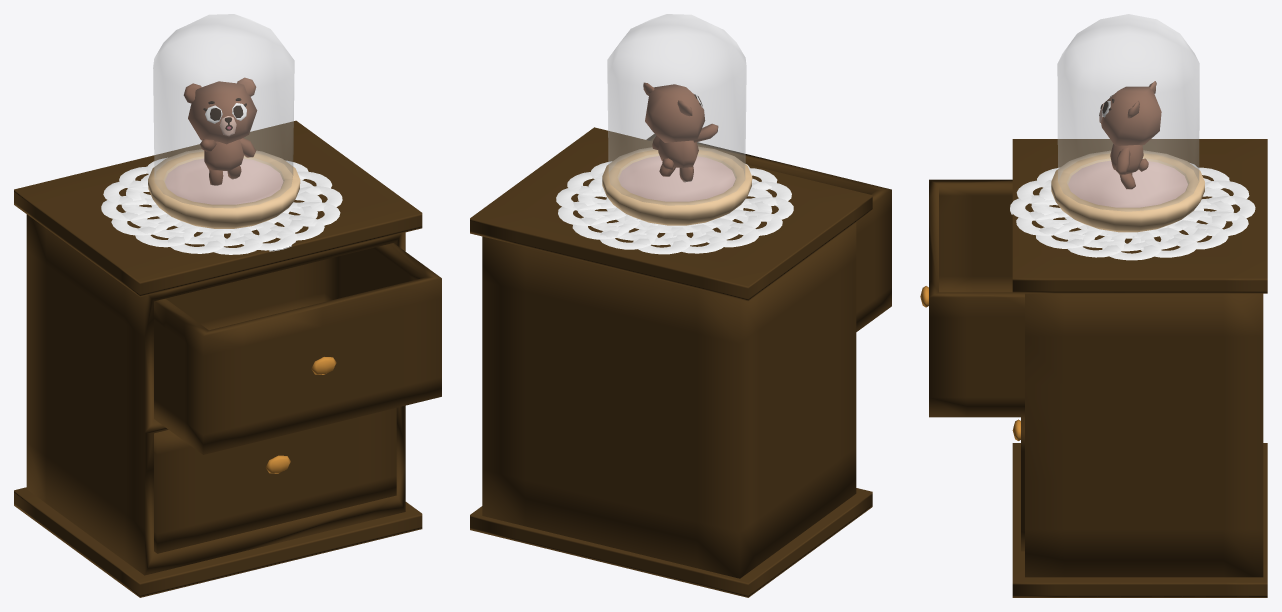
Rendered from drawer.glb.
The picture shows the model from 3 angles, left to right: view 1: azimuth 30°, elevation 25°; view 2: azimuth 150°, elevation 25°; view 3: azimuth 270°, elevation 25°; orthographic projection. The views are drawn at different scales.
Visible parts, largest first — view 1: 서랍, 구체 ext, 레이스, 원통 1, 방이; view 2: 서랍, 구체 ext, 레이스, 원통 1, 방이; view 3: 서랍, 구체 ext, 레이스, 원통 1, 방이.
Part boxes in pixels (x1,y1,x2,y2): 서랍: [14, 120, 441, 597]; 구체 ext: [153, 14, 294, 207]; 레이스: [101, 157, 342, 254]; 원통 1: [148, 149, 300, 228]; 방이: [183, 77, 257, 185]; 서랍: [470, 127, 891, 597]; 구체 ext: [607, 14, 746, 205]; 레이스: [556, 161, 793, 254]; 원통 1: [602, 146, 752, 225]; 방이: [643, 82, 718, 182]; 서랍: [920, 139, 1267, 597]; 구체 ext: [1057, 14, 1199, 211]; 레이스: [1010, 163, 1255, 260]; 원통 1: [1051, 150, 1204, 232]; 방이: [1099, 81, 1161, 189].
Size of the model in its own units: 0.2129 by 0.3613 by 0.2243.
